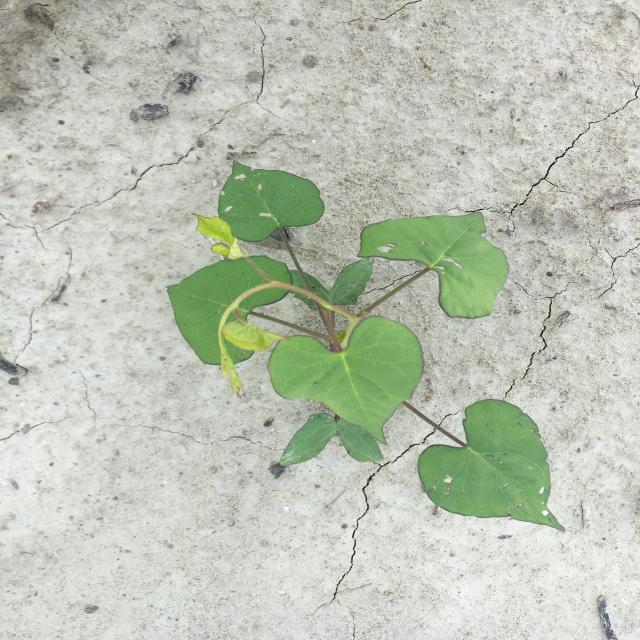MorningGlory: (165, 160, 567, 532)
